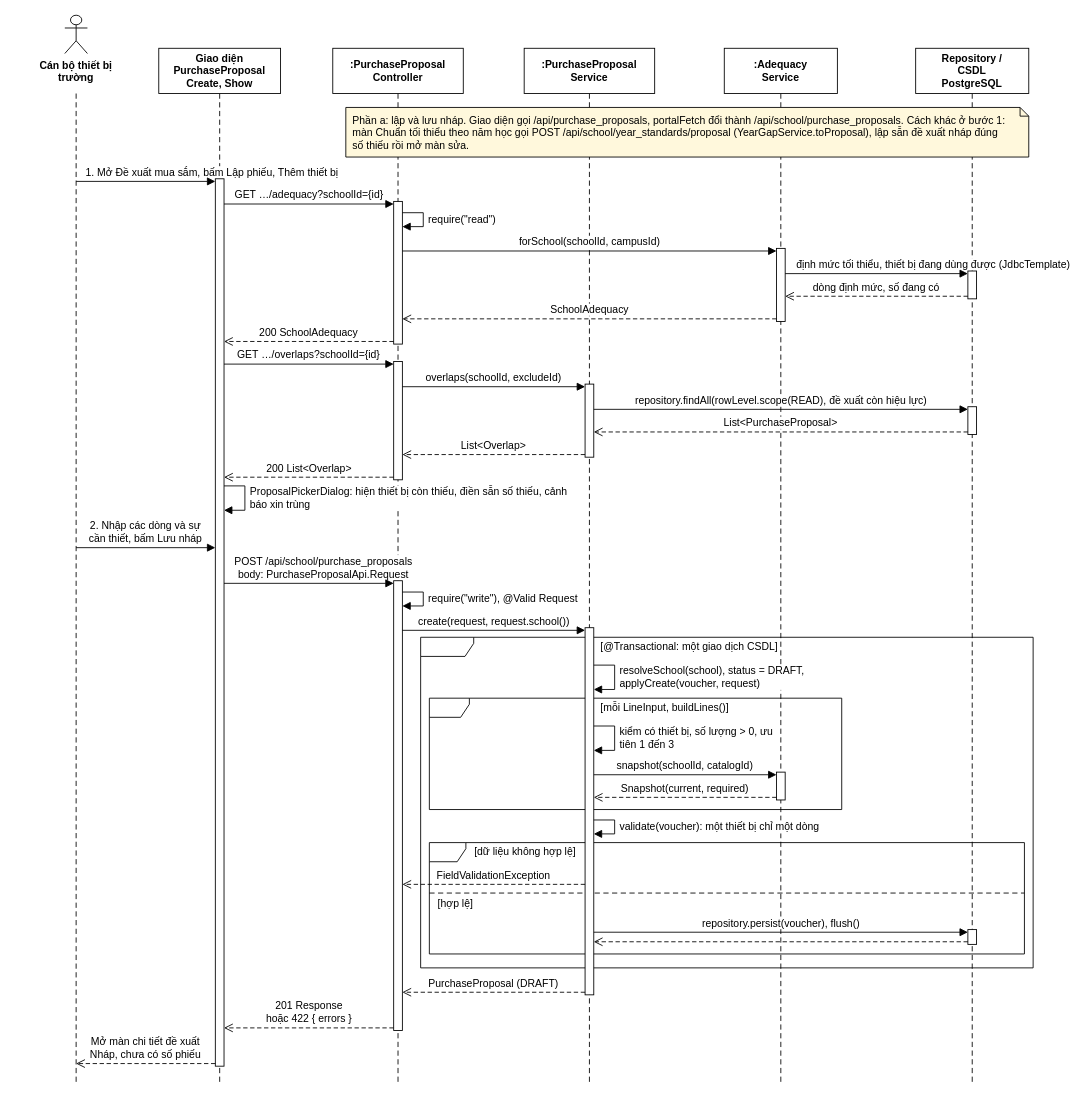
Image size: 1091x1101. Some labels were removed from this diagram. Here are the shapes that lost their labels. From the top down, the box of each, then its label:
(428, 697, 842, 810): loop
(420, 636, 1033, 968): critical
(428, 842, 1024, 954): alt
